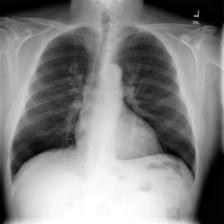normal: (6, 21, 200, 193)
